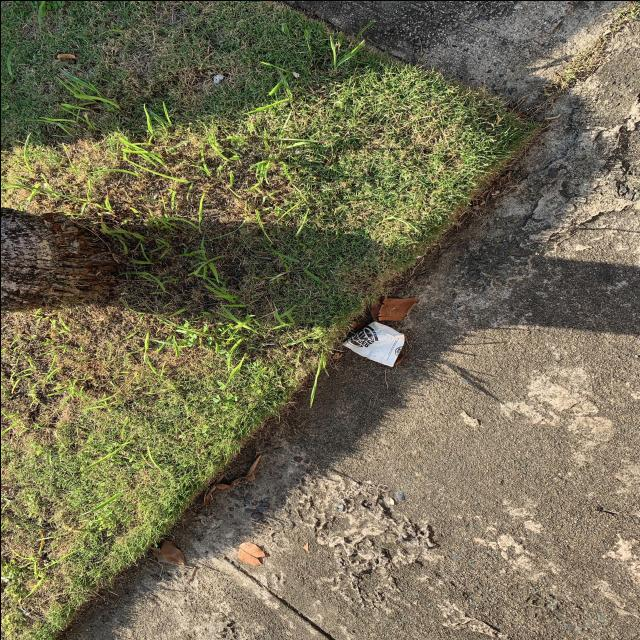Paper cup: (341, 320, 404, 366)
